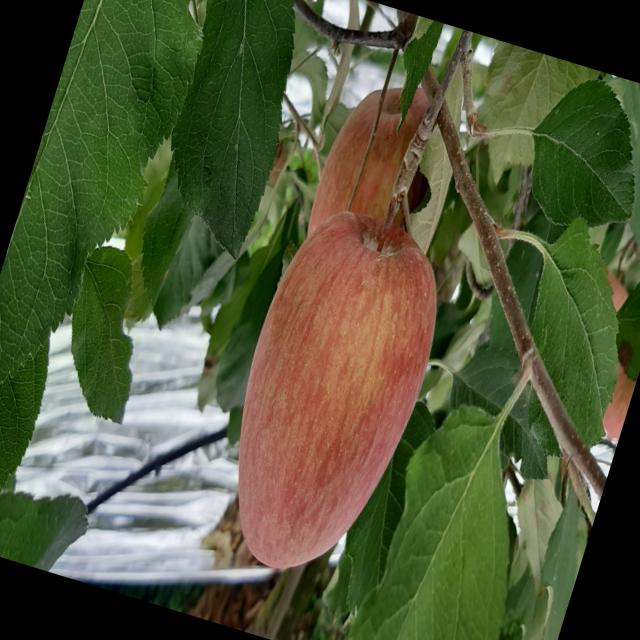fresh: (184, 184, 473, 611)
